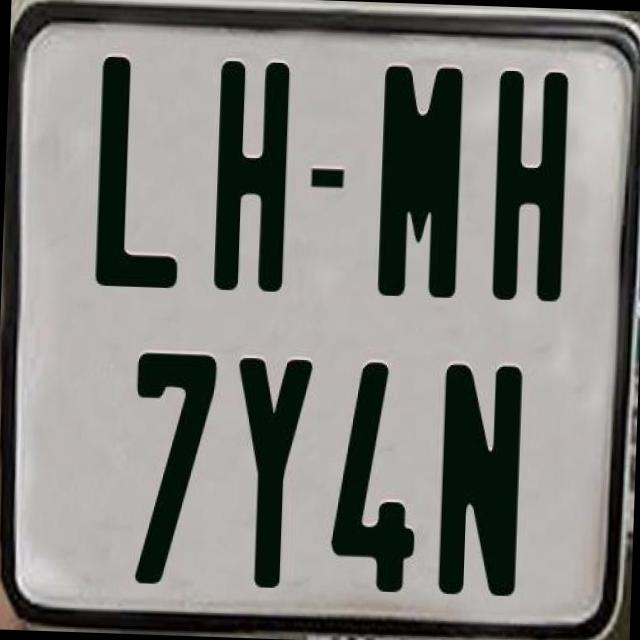4: (329, 361, 420, 597)
7: (126, 350, 218, 587)
H: (212, 58, 294, 294), (491, 65, 568, 301)
L: (91, 56, 186, 294)
M: (372, 62, 458, 298)
N: (434, 358, 526, 598)
Y: (229, 355, 317, 592)
